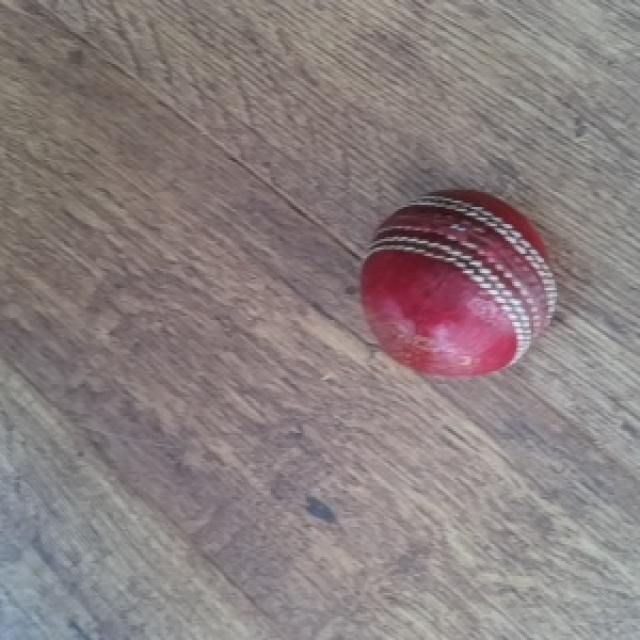ball: (358, 192, 559, 380)
